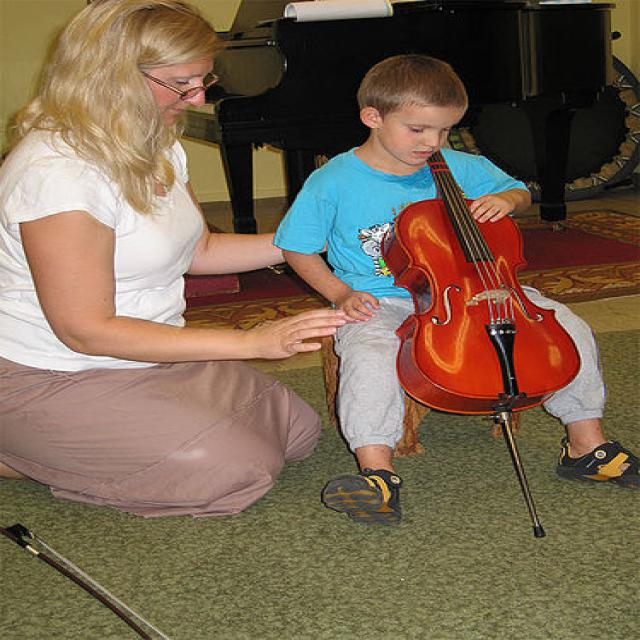cello: (378, 143, 586, 414)
